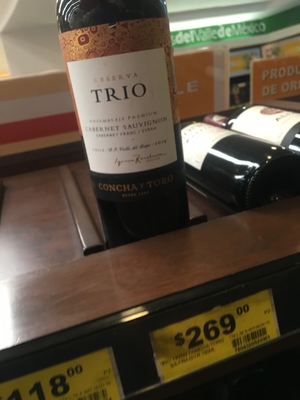trio cabernet sauvignon: (55, 6, 202, 266)
